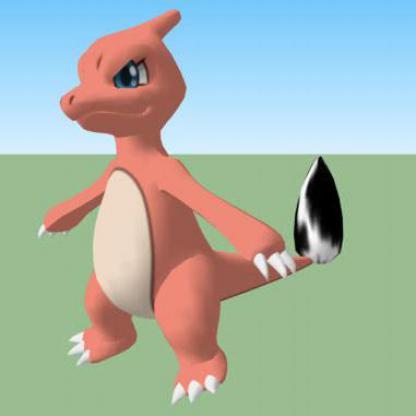Charmeleon: (31, 1, 410, 416)
